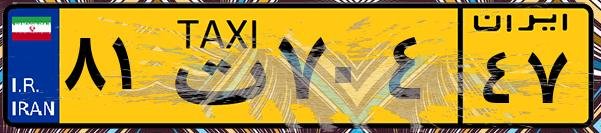0: (330, 28, 385, 110)
1: (110, 28, 158, 98)
4: (385, 28, 445, 110), (475, 38, 525, 113)
7: (270, 28, 330, 110), (525, 38, 570, 115)
8: (57, 26, 110, 100)
ت: (158, 12, 270, 120)
